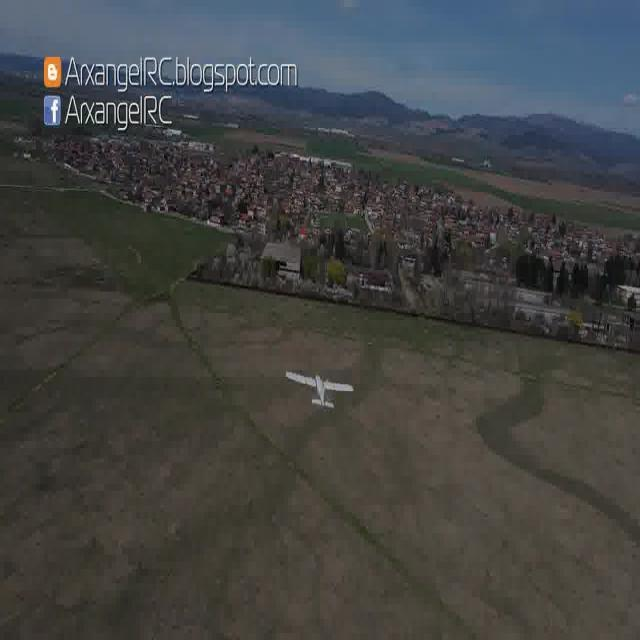iha: (318, 356, 323, 412)
